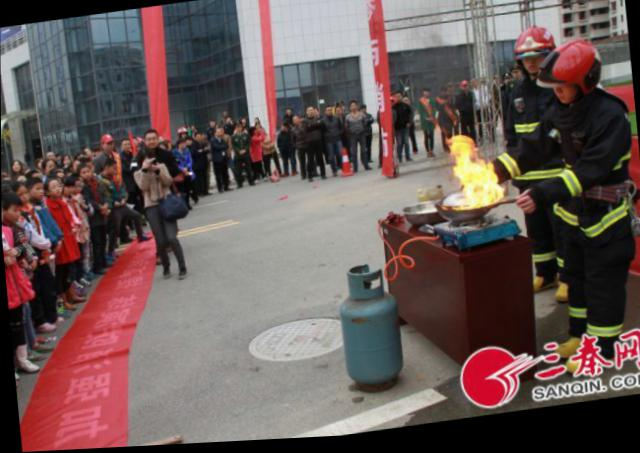fire: (460, 164, 498, 212), (448, 135, 473, 188)
